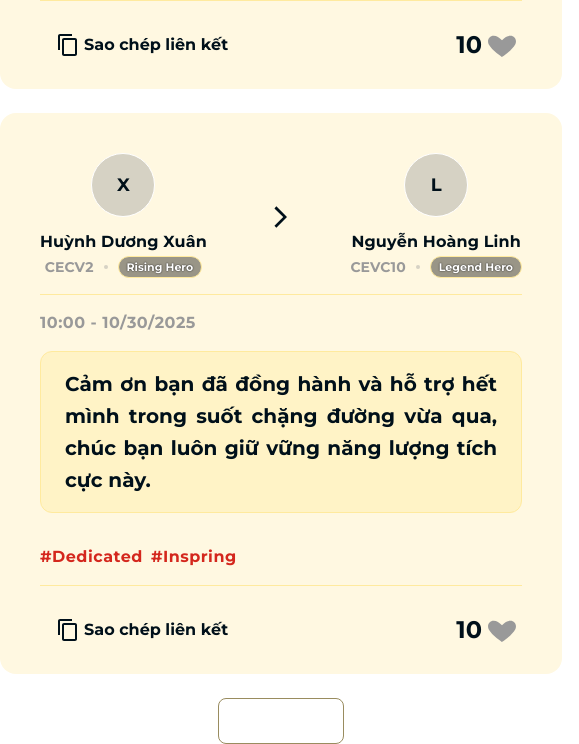
Test: KudosBoardLive › appends the next feed page and hides Xem thêm once hasMore is false
(page scrolled)
Click the button "Xem thêm" at (281, 721), box [218,698,344,743]
(page scrolled)
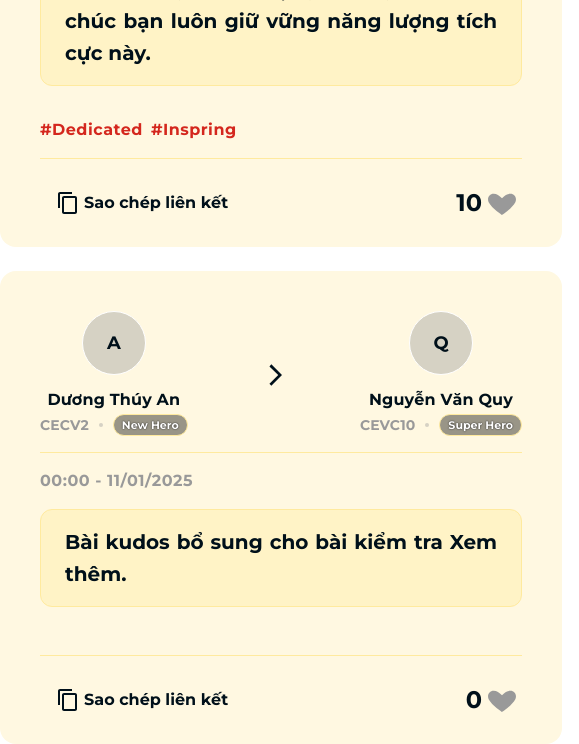
Check: the text "Bài kudos bổ sung cho bài kiểm tra Xem thêm." is shown, box [65,526,497,590]
